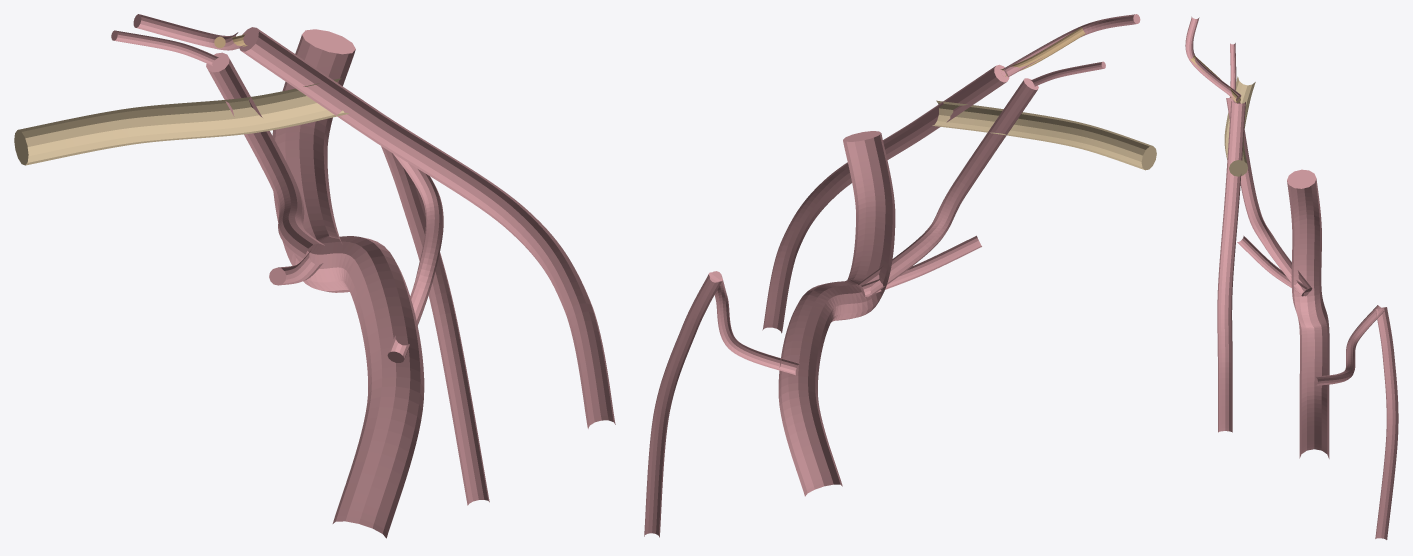
Rendered from orbit_dorsal.glb.
The picture shows the model from 3 angles, left to right: view 1: azimuth 30°, elevation 25°; view 2: azimuth 150°, elevation 25°; view 3: azimuth 270°, elevation 25°; orthographic projection. The views are drawn at different scales.
Visible parts, largest first — view 1: ACI — segmento cavernoso, Artéria meníngea média, Nervo óptico — orientação, Artéria faríngea ascendente, Oftálmica dorsal persistente — variante, Tronco meningohipofisário, Artéria lacrimal, Artéria central da retina — via dorsal conceitual, Tronco inferolateral; view 2: ACI — segmento cavernoso, Artéria meníngea média, Nervo óptico — orientação, Oftálmica dorsal persistente — variante, Artéria faríngea ascendente, Tronco meningohipofisário, Tronco inferolateral, Artéria lacrimal, Comunicação meningolacrimal; view 3: ACI — segmento cavernoso, Artéria meníngea média, Artéria faríngea ascendente, Oftálmica dorsal persistente — variante, Tronco meningohipofisário, Nervo óptico — orientação, Artéria lacrimal, Tronco inferolateral, Artéria central da retina — via dorsal conceitual.
Part boxes in pixels (<box>): ACI — segmento cavernoso: <box>272,29,424,538</box>; Artéria meníngea média: <box>239,27,615,428</box>; Nervo óptico — orientação: <box>14,78,349,165</box>; Artéria faríngea ascendente: <box>381,146,489,505</box>; Oftálmica dorsal persistente — variante: <box>206,52,324,262</box>; Tronco meningohipofisário: <box>387,153,443,362</box>; Artéria lacrimal: <box>133,14,244,50</box>; Artéria central da retina — via dorsal conceitual: <box>111,30,218,65</box>; Tronco inferolateral: <box>269,251,323,285</box>; ACI — segmento cavernoso: <box>778,131,895,496</box>; Artéria meníngea média: <box>762,64,1009,333</box>; Nervo óptico — orientação: <box>932,100,1156,170</box>; Oftálmica dorsal persistente — variante: <box>858,78,1038,298</box>; Artéria faríngea ascendente: <box>644,272,722,537</box>; Tronco meningohipofisário: <box>710,271,799,375</box>; Tronco inferolateral: <box>860,235,981,296</box>; Artéria lacrimal: <box>1003,14,1140,77</box>; Comunicação meningolacrimal: <box>1000,27,1085,76</box>; ACI — segmento cavernoso: <box>1287,169,1329,458</box>; Artéria meníngea média: <box>1217,101,1245,432</box>; Artéria faríngea ascendente: <box>1375,307,1398,539</box>; Oftálmica dorsal persistente — variante: <box>1226,97,1312,296</box>; Tronco meningohipofisário: <box>1315,305,1384,385</box>; Nervo óptico — orientação: <box>1224,76,1255,176</box>; Artéria lacrimal: <box>1185,16,1241,100</box>; Tronco inferolateral: <box>1237,235,1309,296</box>; Artéria central da retina — via dorsal conceitual: <box>1230,43,1236,97</box>.
Size of the model in its own units: 4.89 by 5.86 by 2.87.
